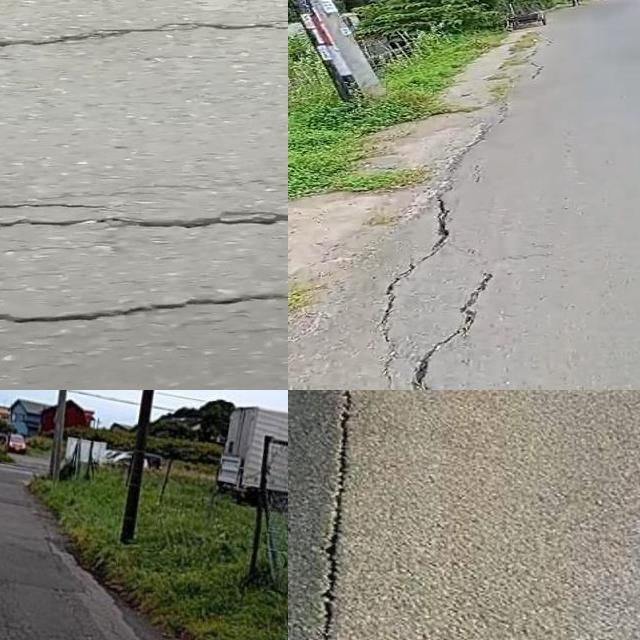Melintang: (0, 5, 288, 62), (0, 284, 288, 335), (0, 199, 288, 244)
Memanjang: (294, 390, 373, 640), (362, 193, 460, 365), (396, 267, 514, 390)
